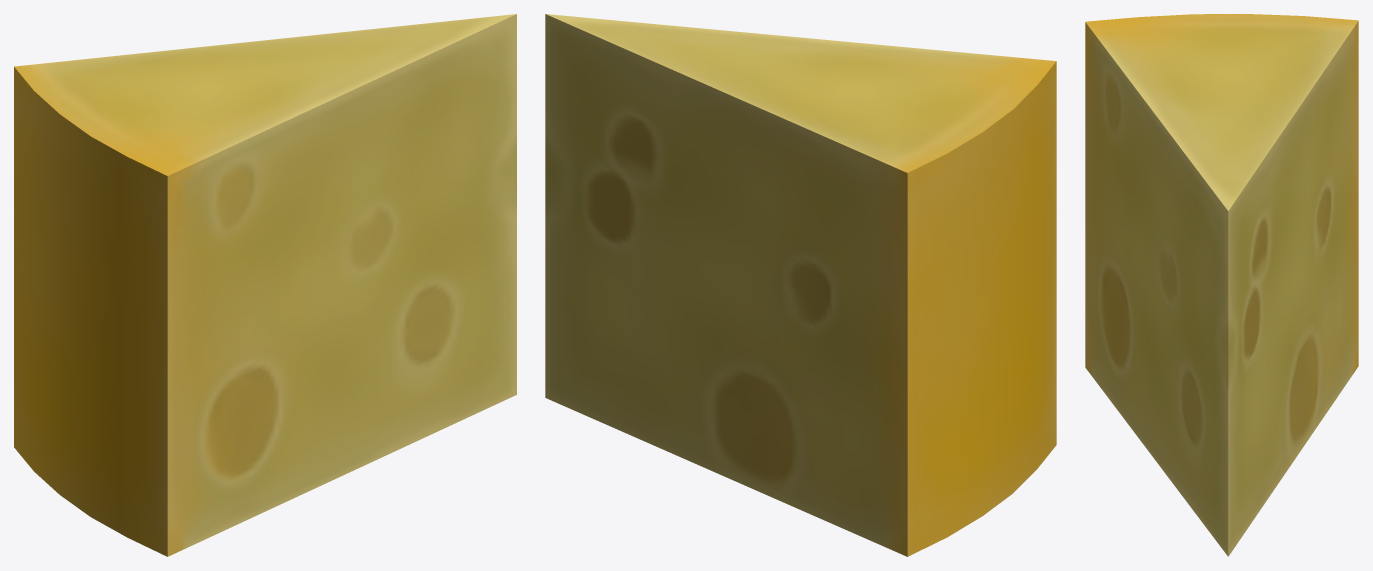
Rendered from SM_Cheese2.fbx.
3 views of the same model, side by side, from view 1: azimuth 30°, elevation 25°; view 2: azimuth 150°, elevation 25°; view 3: azimuth 270°, elevation 25° (orthographic). The views are drawn at different scales.
Parts seen in each view (by area): view 1: SM_Cheese2_LOD0; view 2: SM_Cheese2_LOD0; view 3: SM_Cheese2_LOD0.
Part boxes in pixels (x1,y1,x2,y2): SM_Cheese2_LOD0: [14, 14, 516, 556]; SM_Cheese2_LOD0: [545, 14, 1056, 556]; SM_Cheese2_LOD0: [1085, 14, 1358, 556].
Bounding box in the file's own units: 15.89 × 9.31 × 12.98.
